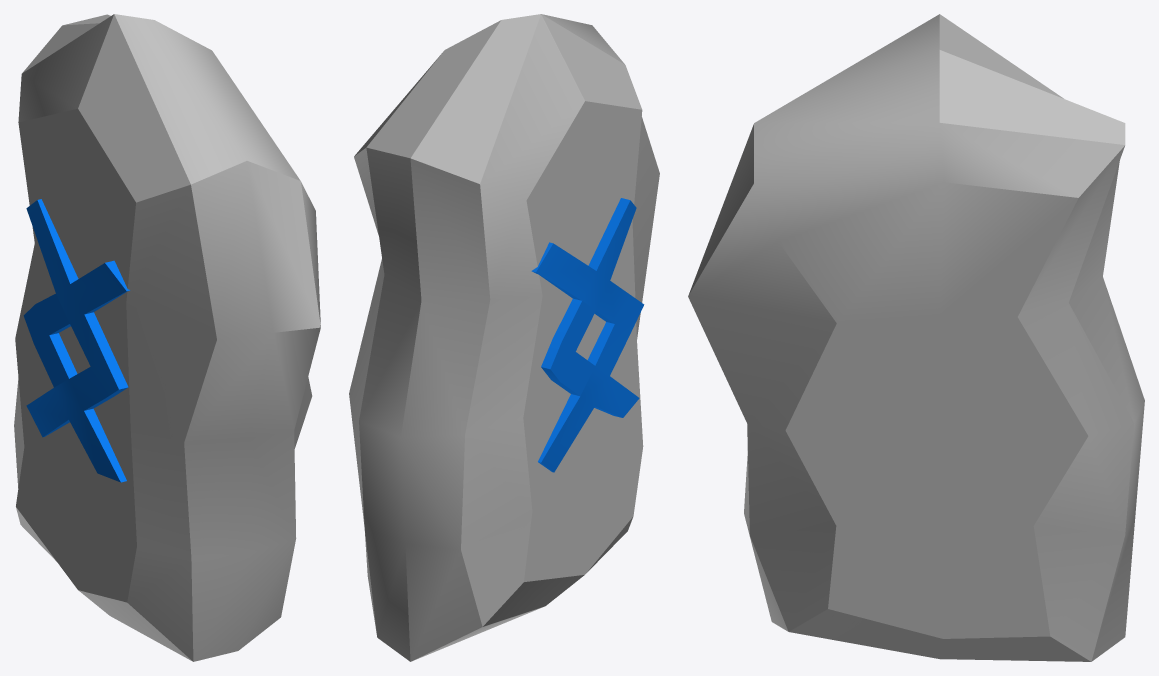
Rendered from export_rune3.fbx.
The picture shows the model from 3 angles, left to right: view 1: azimuth 30°, elevation 25°; view 2: azimuth 150°, elevation 25°; view 3: azimuth 270°, elevation 25°; orthographic projection. The views are drawn at different scales.
Visible parts, largest first — view 1: pCube4; view 2: pCube4; view 3: pCube4.
Part boxes in pixels (x1,y1,x2,y2): pCube4: [14, 14, 320, 661]; pCube4: [349, 14, 659, 661]; pCube4: [688, 14, 1144, 661].
Size of the model in its own units: 19 by 63.65 by 43.69.
